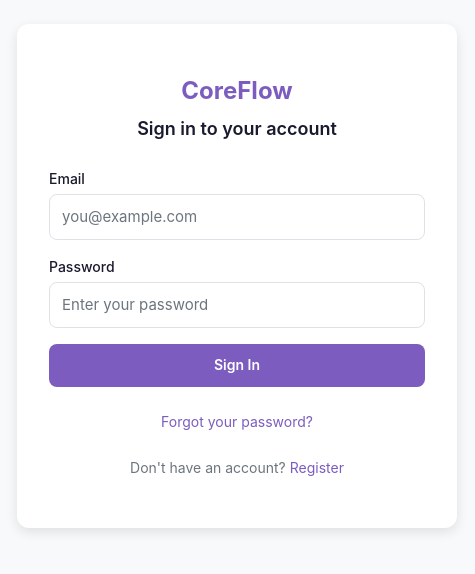
Test case: LoginPage › shows error when email is empty
The image size is (475, 574).
Click the button "Sign In".
click(237, 366)  # box [49,344,425,387]
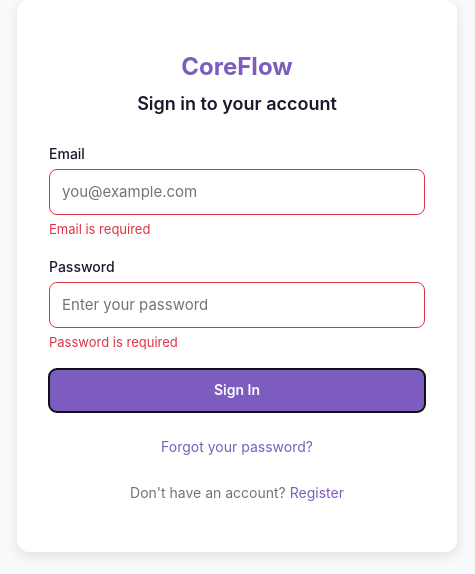
Check: the text "Email is required" is shown, box [49,221,150,237]
